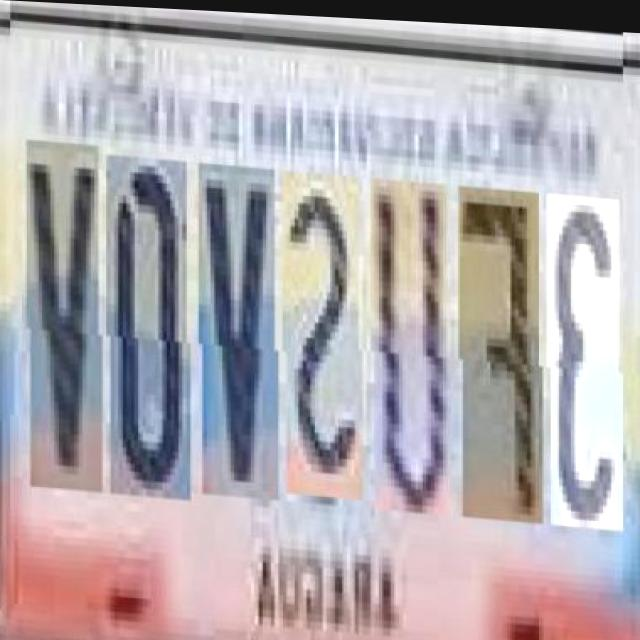0: (106, 158, 187, 502)
3: (546, 188, 619, 524)
f: (458, 182, 539, 519)
s: (282, 170, 360, 498)
u: (370, 176, 447, 512)
v: (198, 164, 275, 500), (26, 144, 99, 496)
